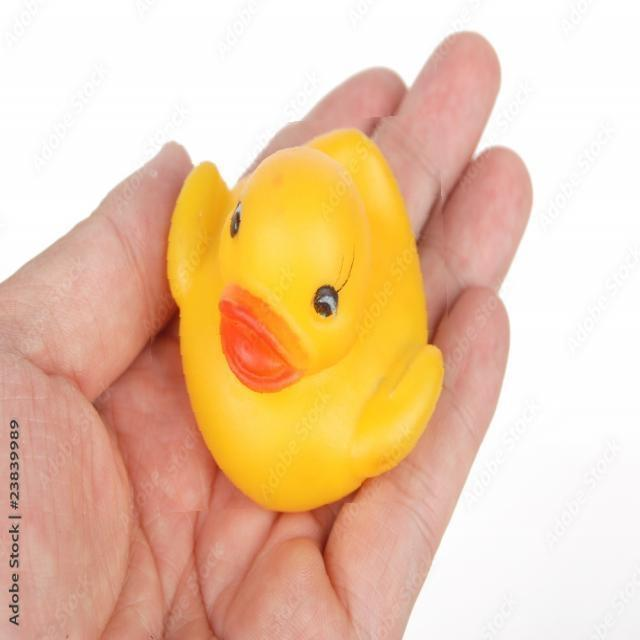rubber-duck: (167, 128, 441, 509)
